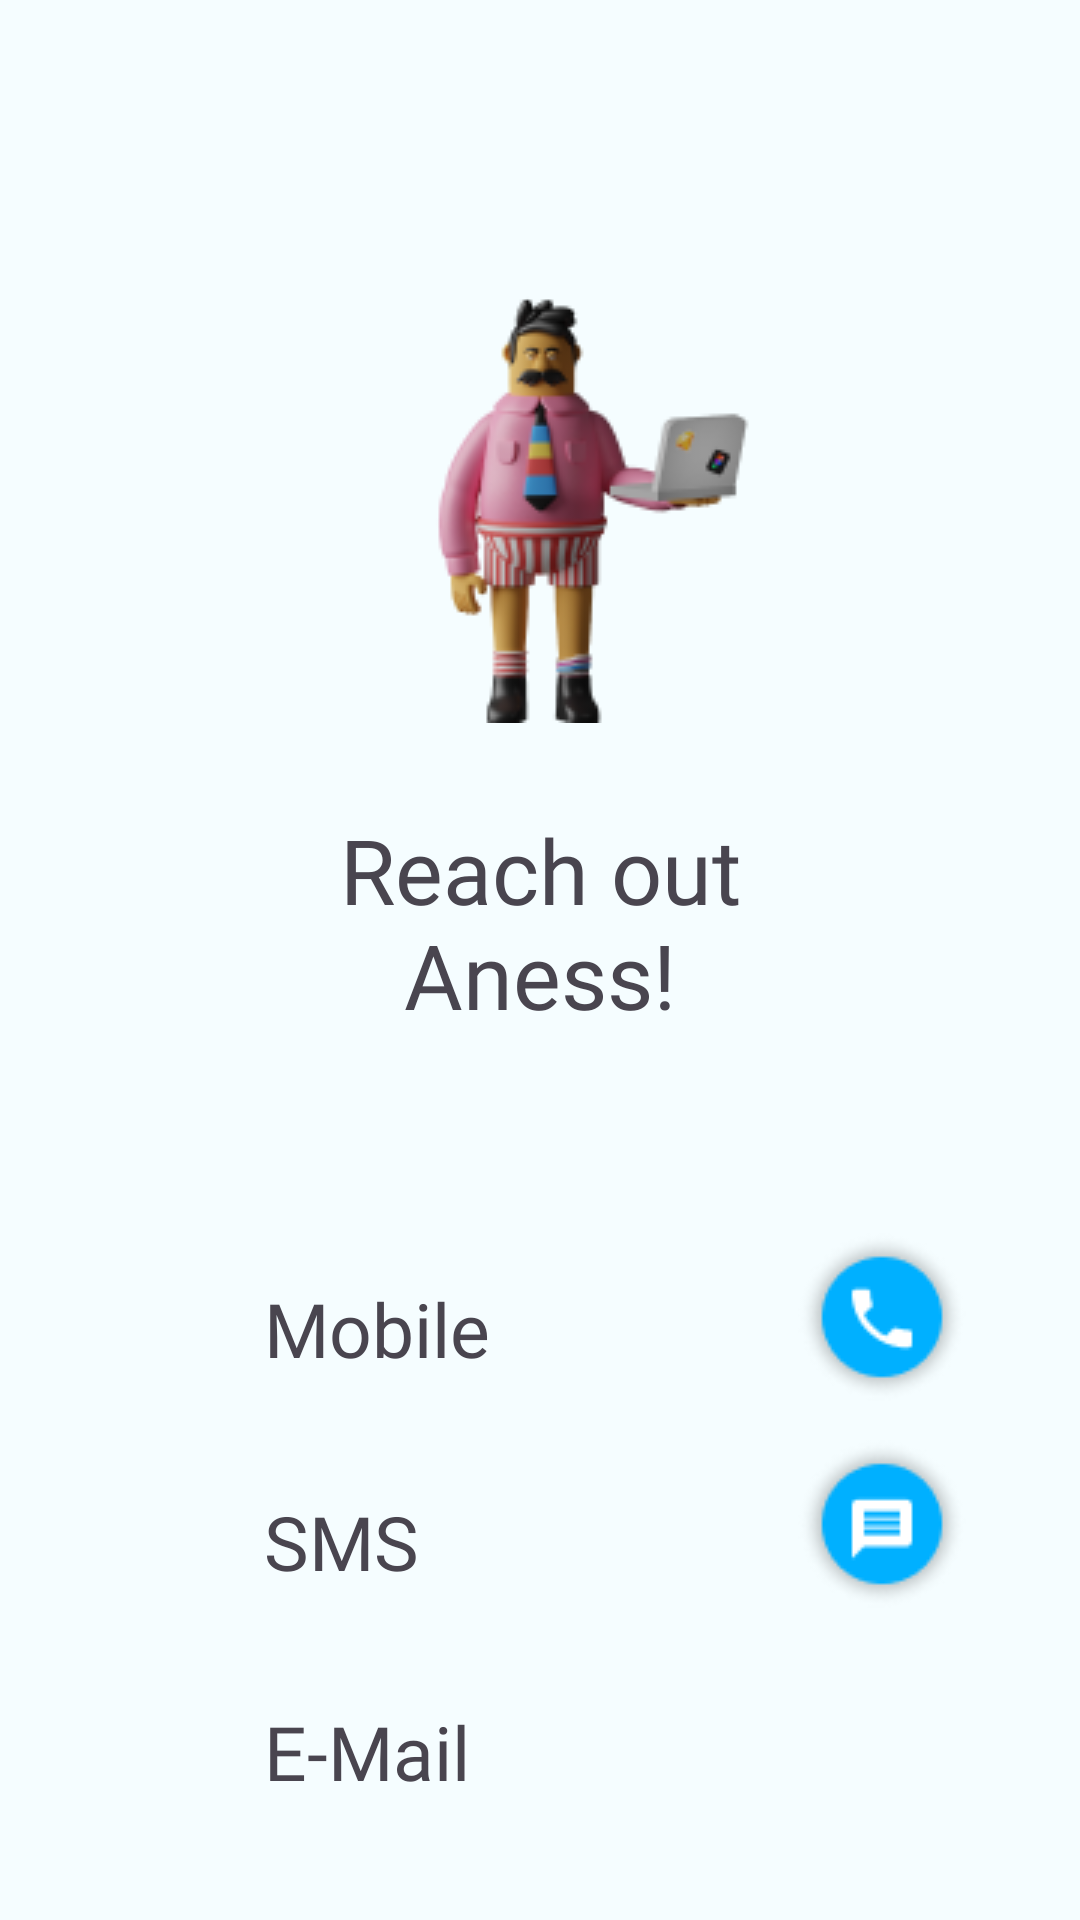

Screen size 1080x1920. Icon name, then its box in pixels as (x1, y1, x2, y2):
call: (814, 1249, 949, 1385)
